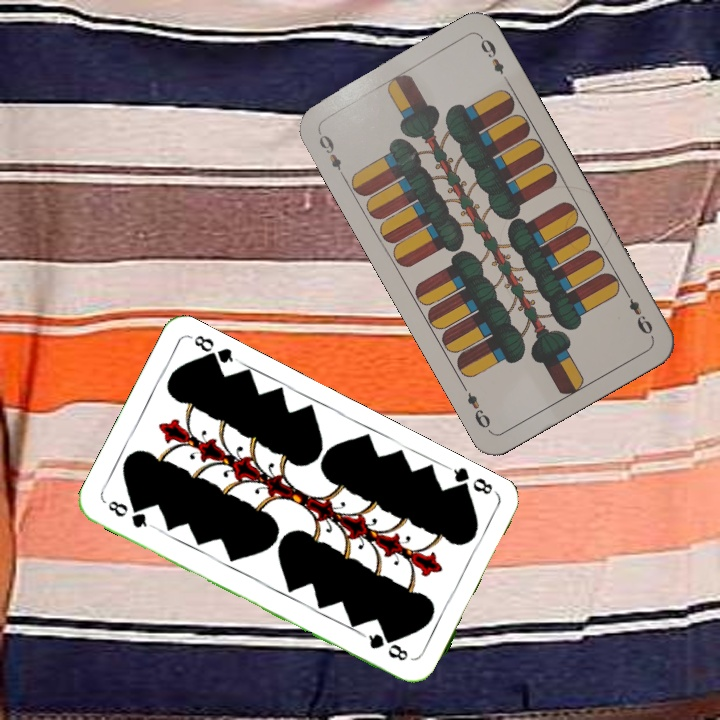E9: (620, 286, 656, 340), (313, 126, 348, 181)
G8: (445, 463, 500, 499), (103, 496, 156, 531)
